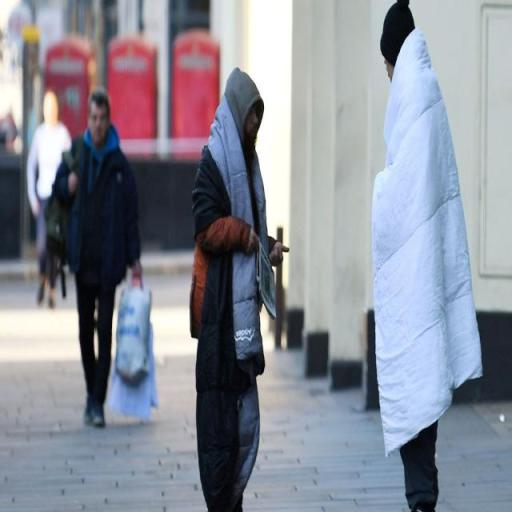person: (357, 1, 488, 512), (187, 69, 282, 512), (60, 92, 149, 433), (26, 93, 73, 307)
